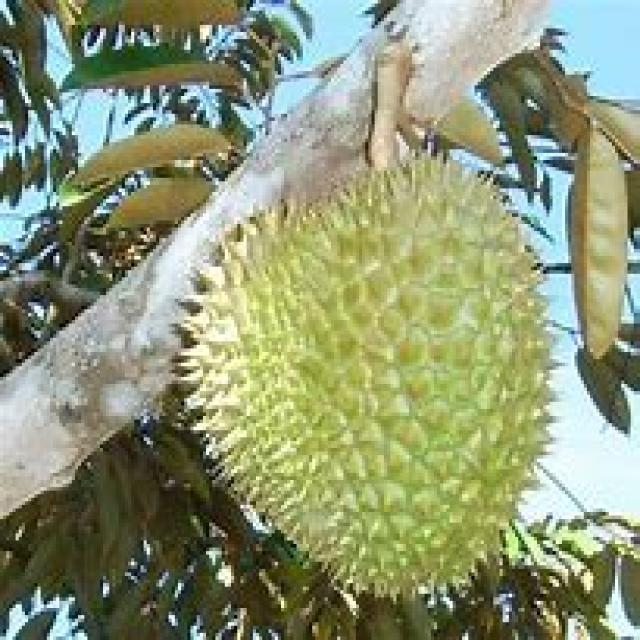UNRIPE: (176, 153, 562, 598)
